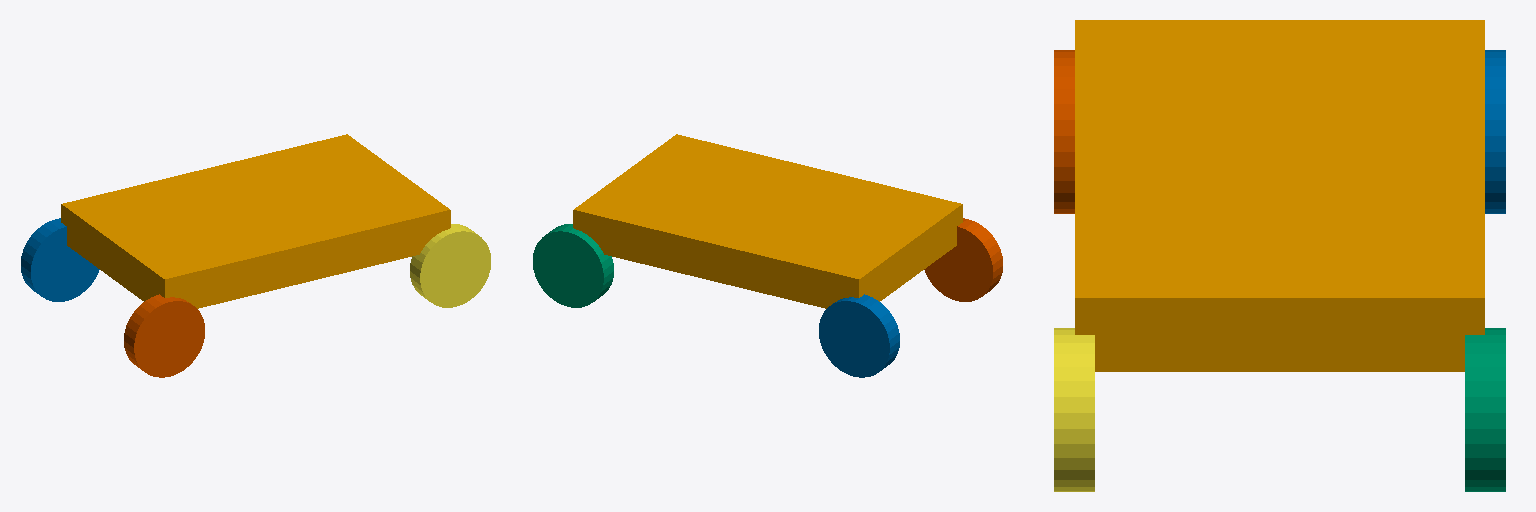
robot.urdf — ground_robot:
<?xml version="1.0" ?>
<!-- =================================================================================== -->
<!-- |    This document was autogenerated by xacro from ground_robot.xacro             | -->
<!-- |    EDITING THIS FILE BY HAND IS NOT RECOMMENDED                                 | -->
<!-- =================================================================================== -->
<robot name="ground_robot">
  <!-- Base link -->
  <link name="base_link">
    <visual>
      <geometry>
        <box size="0.8 0.5 0.1"/>
      </geometry>
      <material name="blue"/>
    </visual>
    <collision>
      <geometry>
        <box size="0.8 0.5 0.1"/>
      </geometry>
    </collision>
    <inertial>
      <mass value="0.5"/>
      <origin rpy="0 0 0" xyz="0.4 0 0"/>
      <inertia ixx="0.1" ixy="0.0" ixz="0.0" iyy="0.1" iyz="0.0" izz="0.1"/>
    </inertial>
  </link>
  <link name="marker">
    <inertial>
      <origin rpy="0.0 0.0 0.0" xyz="0.0 0.0 0.0"/>
      <mass value="0.0001"/>
      <inertia ixx="0.00" ixy="0.0" ixz="0.0" iyy="0.0" iyz="0.0" izz="0.0001"/>
    </inertial>
    <visual name="marker">
      <origin rpy="0.0 -1.570796327 0.0"/>
      <geometry>
        <mesh filename="[local-path]/quadrotor_target_tracking/src/robots_description/meshes/Marker0.obj" scale="1.0 1.0 1.0"/>
      </geometry>
    </visual>
  </link>
  <joint name="aruco" type="fixed">
    <parent link="base_link"/>
    <child link="marker"/>
    <origin rpy="0 0 0" xyz="0 -0.25 0.060000000000000005"/>
  </joint>
  <link name="wheel_front_left">
    <visual>
      <geometry>
        <cylinder length="0.05" radius="0.1"/>
      </geometry>
      <material name="black"/>
    </visual>
    <collision>
      <geometry>
        <cylinder length="0.05" radius="0.1"/>
      </geometry>
    </collision>
    <inertial>
      <mass value="0.1"/>
      <origin rpy="0 0 0" xyz="0 0 0"/>
      <inertia ixx="0.01" ixy="0.0" ixz="0.0" iyy="0.01" iyz="0.0" izz="0.01"/>
    </inertial>
  </link>
  <joint name="wheel_front_left_joint" type="continuous">
    <parent link="base_link"/>
    <child link="wheel_front_left"/>
    <origin rpy="1.5708 0 0" xyz="0.4 0.25 -0.1"/>
    <axis xyz="0 0 -1"/>
  </joint>
  <link name="wheel_front_right">
    <visual>
      <geometry>
        <cylinder length="0.05" radius="0.1"/>
      </geometry>
      <material name="black"/>
    </visual>
    <collision>
      <geometry>
        <cylinder length="0.05" radius="0.1"/>
      </geometry>
    </collision>
    <inertial>
      <mass value="0.1"/>
      <origin rpy="0 0 0" xyz="0 0 0"/>
      <inertia ixx="0.01" ixy="0.0" ixz="0.0" iyy="0.01" iyz="0.0" izz="0.01"/>
    </inertial>
  </link>
  <joint name="wheel_front_right_joint" type="continuous">
    <parent link="base_link"/>
    <child link="wheel_front_right"/>
    <origin rpy="1.5708 0 0" xyz="0.4 -0.25 -0.1"/>
    <axis xyz="0 0 -1"/>
  </joint>
  <link name="wheel_back_left">
    <visual>
      <geometry>
        <cylinder length="0.05" radius="0.1"/>
      </geometry>
      <material name="black"/>
    </visual>
    <collision>
      <geometry>
        <cylinder length="0.05" radius="0.1"/>
      </geometry>
    </collision>
    <inertial>
      <mass value="0.1"/>
      <origin rpy="0 0 0" xyz="0 0 0"/>
      <inertia ixx="0.01" ixy="0.0" ixz="0.0" iyy="0.01" iyz="0.0" izz="0.01"/>
    </inertial>
  </link>
  <joint name="wheel_back_left_joint" type="continuous">
    <parent link="base_link"/>
    <child link="wheel_back_left"/>
    <origin rpy="1.5708 0 0" xyz="-0.4 0.25 -0.1"/>
    <axis xyz="0 0 -1"/>
  </joint>
  <link name="wheel_back_right">
    <visual>
      <geometry>
        <cylinder length="0.05" radius="0.1"/>
      </geometry>
      <material name="black"/>
    </visual>
    <collision>
      <geometry>
        <cylinder length="0.05" radius="0.1"/>
      </geometry>
    </collision>
    <inertial>
      <mass value="0.1"/>
      <origin rpy="0 0 0" xyz="0 0 0"/>
      <inertia ixx="0.01" ixy="0.0" ixz="0.0" iyy="0.01" iyz="0.0" izz="0.01"/>
    </inertial>
  </link>
  <joint name="wheel_back_right_joint" type="continuous">
    <parent link="base_link"/>
    <child link="wheel_back_right"/>
    <origin rpy="1.5708 0 0" xyz="-0.4 -0.25 -0.1"/>
    <axis xyz="0 0 -1"/>
  </joint>
  <!-- Differential Drive Plugin -->
  <!-- <gazebo>
    <plugin name="diff_drive_controller" filename="libgazebo_ros_diff_drive.so">
      <alwaysOn>true</alwaysOn>
      <updateRate>100.0</updateRate>
      <wheelSeparation>${base_width}</wheelSeparation>
      <wheelDiameter>${wheel_radius * 2}</wheelDiameter>
      <wheelTorque>5.0</wheelTorque>
      <commandTopic>/cmd_vel</commandTopic>
      <odometryTopic>/odom</odometryTopic>
      <odometryFrame>odom</odometryFrame>
      <robotBaseFrame>base_link</robotBaseFrame>
      <publishTf>true</publishTf>
      <leftJoint>wheel_front_left_joint</leftJoint>
      <rightJoint>wheel_front_right_joint</rightJoint>
    </plugin>
  </gazebo> -->
  <gazebo>
    <plugin filename="libgazebo_ros_diff_drive.so" name="wheel_drive_controller">
      <!-- wheels -->
      <num_wheel_pairs>2</num_wheel_pairs>
      <left_joint>wheel_front_left_joint</left_joint>
      <right_joint>wheel_front_right_joint</right_joint>
      <left_joint>wheel_back_left_joint</left_joint>
      <right_joint>wheel_back_right_joint</right_joint>
      <!-- kinematics -->
      <wheel_separation>0.5</wheel_separation>
      <wheel_diameter>0.2</wheel_diameter>
      <!-- Limits -->
      <max_wheel_torque>200.0</max_wheel_torque>
      <max_wheel_acceleration>10.0</max_wheel_acceleration>
      <!-- Output -->
      <odometry_frame>odom</odometry_frame>
      <robot_base_frame>base_link</robot_base_frame>
      <!-- topic & re remappings -->
      <ros>
        <namespace>/ground_robot</namespace>
        <argument>/cmd_vel:=cmd_vel</argument>
        <argument>/odom:=odom</argument>
      </ros>
      <publish_odom>true</publish_odom>
      <publish_odom_tf>true</publish_odom_tf>
      <update_rate>100.0</update_rate>
    </plugin>
  </gazebo>
  <!-- <gazebo reference="base_link"> -->
    <!-- <material>Gazebo/Blue</material> -->
  <!-- </gazebo> -->
</robot>

--- Render facts (derived) ---
The picture shows the robot from 3 angles, left to right: view 1: azimuth 30°, elevation 25°; view 2: azimuth 150°, elevation 25°; view 3: azimuth 270°, elevation 25°; orthographic projection.
Robot: ground_robot — 6 links, 5 joints (4 continuous, 1 fixed); root link base_link; default pose: all joints at 0.
Visible links, largest first — view 1: base_link, wheel_back_right, wheel_front_right, wheel_back_left; view 2: base_link, wheel_back_left, wheel_front_left, wheel_back_right; view 3: base_link, wheel_front_left, wheel_front_right, wheel_back_left, wheel_back_right.
Boxes of the visible links, x1,y1,x2,y2 form: base_link: [61, 134, 450, 308]; wheel_back_right: [124, 294, 204, 377]; wheel_front_right: [410, 224, 490, 307]; wheel_back_left: [21, 218, 99, 301]; base_link: [573, 134, 962, 308]; wheel_back_left: [819, 294, 899, 377]; wheel_front_left: [533, 224, 613, 307]; wheel_back_right: [924, 218, 1002, 301]; base_link: [1075, 20, 1484, 371]; wheel_front_left: [1465, 328, 1505, 491]; wheel_front_right: [1054, 328, 1094, 491]; wheel_back_left: [1485, 50, 1505, 213]; wheel_back_right: [1054, 50, 1074, 213].
Bounding box of the posed robot: 1 × 0.55 × 0.25 m (x, y, z).
Geometry: only primitive shapes (box / cylinder / sphere) drawn; not drawn: 1 mesh visual (reference in a form the renderer does not follow).